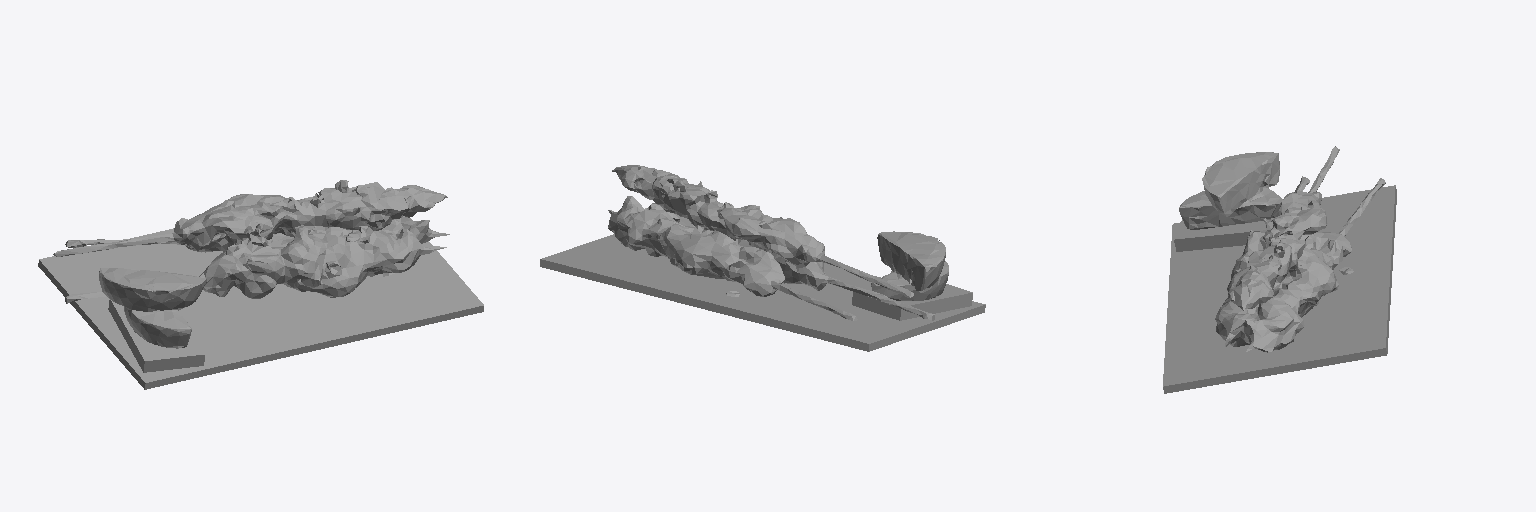
File: dish.obj
3 renders of one model, left to right at view 1: azimuth 30°, elevation 25°; view 2: azimuth 150°, elevation 25°; view 3: azimuth 270°, elevation 25°, orthographic.
Parts seen in each view (by area): view 1: default.001_default.002, Cube, Cube.001; view 2: default.001_default.002, Cube, Cube.001; view 3: Cube, default.001_default.002, Cube.001.
Boxes of the visible parts, x1=… form: default.001_default.002: x1=53, y1=180, x2=449, y2=348; Cube: x1=38, y1=182, x2=483, y2=389; Cube.001: x1=108, y1=300, x2=204, y2=372; default.001_default.002: x1=608, y1=165, x2=948, y2=320; Cube: x1=540, y1=234, x2=985, y2=351; Cube.001: x1=852, y1=284, x2=972, y2=320; Cube: x1=1163, y1=185, x2=1396, y2=393; default.001_default.002: x1=1179, y1=146, x2=1385, y2=352; Cube.001: x1=1174, y1=219, x2=1271, y2=251.
Bounding box in the file's own units: 3.13 × 0.9266 × 1.79.